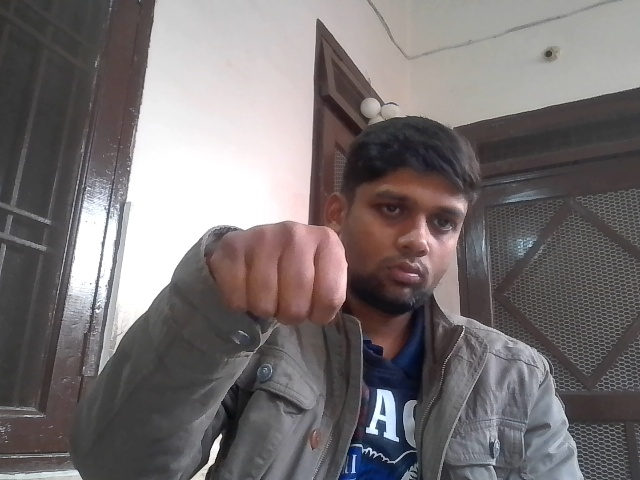Yes: (201, 215, 363, 337)
